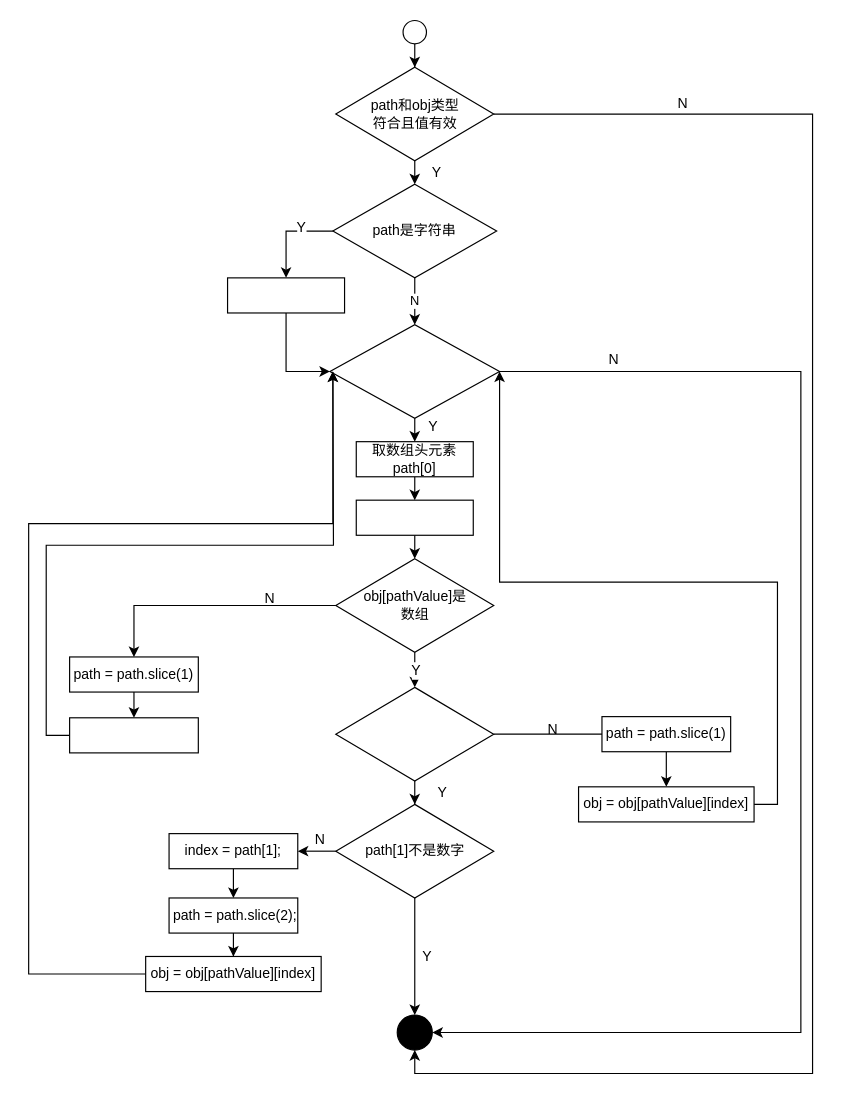
Image size: 842x1103. Some labels were removed from this diagram. Each missing label, with the centre of its shape:
"index的值是NaN" goes at (414,733).
"obj = obj[path]" goes at (133,735).
"path.length>0 && obj" goes at (414,371).
"分割字符串为数组" goes at (285,295).
"解析pathValue和index" goes at (414,517).
